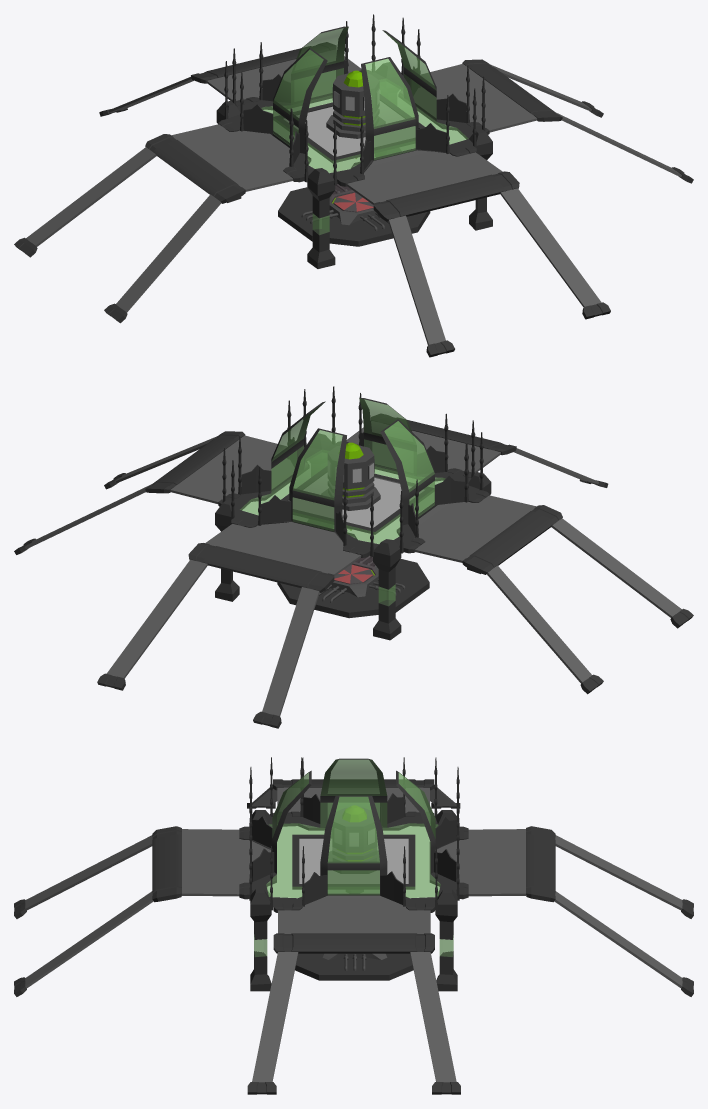
Rendered from ghost_cage_NoNav.fbx.
3 views of the same model, one above another, from view 1: azimuth 30°, elevation 25°; view 2: azimuth 150°, elevation 25°; view 3: azimuth 270°, elevation 25° (orthographic). The views are drawn at different scales.
Visible parts, largest first — view 1: polySurface2384; view 2: polySurface2384; view 3: polySurface2384.
Part boxes in pixels (box(x1,y1,x2,y2)): polySurface2384: box(14, 14, 693, 357); polySurface2384: box(14, 386, 693, 728); polySurface2384: box(14, 757, 693, 1094).
Bounding box in the file's own units: 291 × 82.14 × 290.
